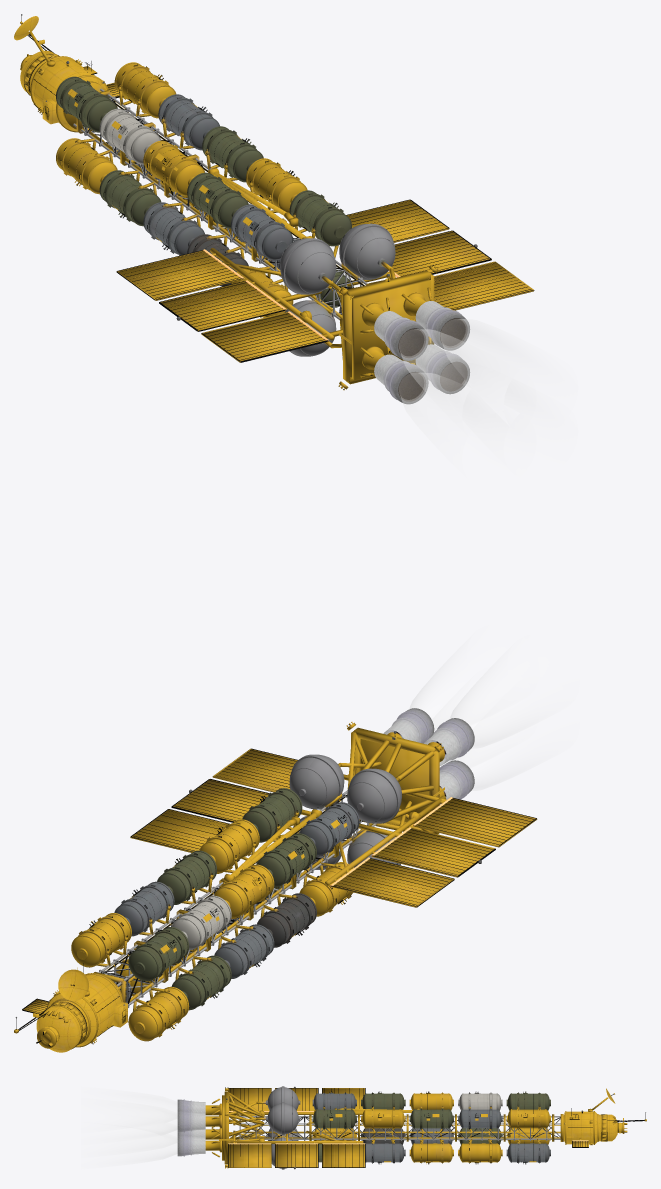
The picture shows the model from 3 angles, top to bottom: view 1: azimuth 30°, elevation 25°; view 2: azimuth 150°, elevation 25°; view 3: azimuth 270°, elevation 25°; orthographic projection. The views are drawn at different scales.
Parts seen in each view (by area): view 1: hull, detail, plume; view 2: hull, detail, plume; view 3: hull, detail, plume, c_0.
Boxes of the visible parts, x1,y1,x2,y2 form: hull: (20,16,534,390); detail: (14,16,469,404); plume: (399,319,547,459); hull: (14,722,537,1049); detail: (33,708,474,1052); plume: (409,654,550,790); hull: (205,1086,646,1169); detail: (177,1088,623,1162); plume: (90,1090,177,1165); c_0: (228,1111,588,1144).
Bounding box in the file's own units: 49.18 × 21.76 × 162.
Materials: 6 (4 with a texture image).
